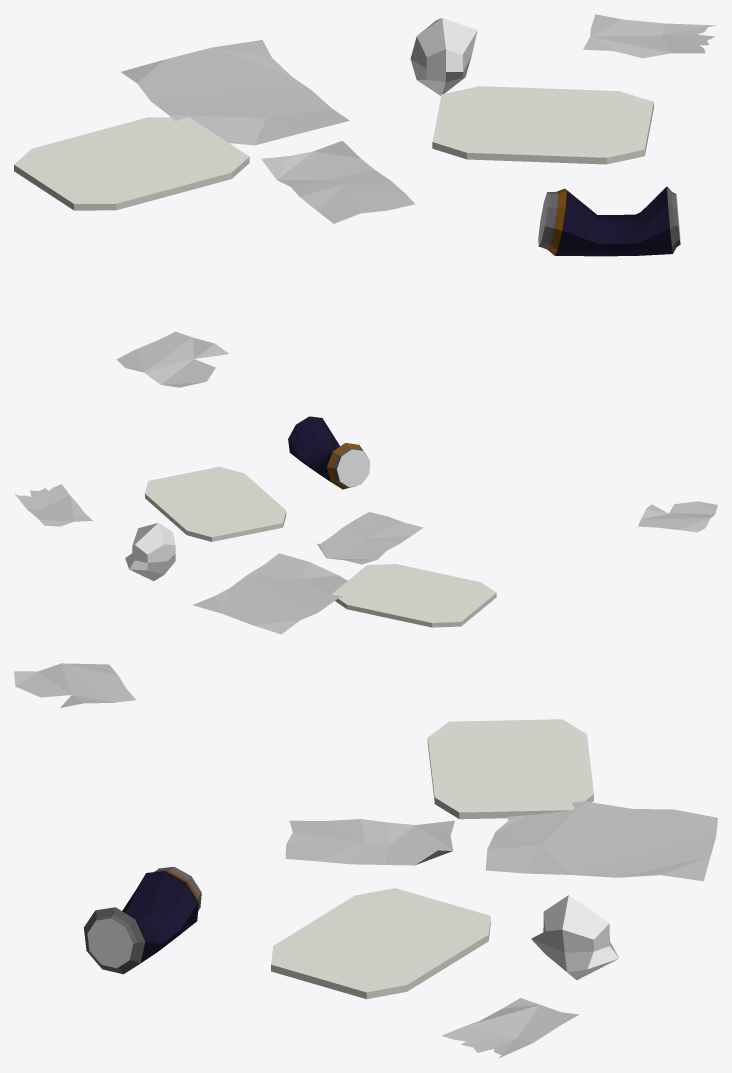
Rendered from WarehouseTrash4.glb.
3 views of the same model, one above another, from view 1: azimuth 30°, elevation 25°; view 2: azimuth 150°, elevation 25°; view 3: azimuth 270°, elevation 25° (orthographic). The views are drawn at different scales.
Parts seen in each view (by area): view 1: HexPaper.004, HexPaper.005, SM_Paper_04.005, Soda.006, SM_Paper_02.003, SM_Paper_01.003, SM_Paper_03.003, CrumpledPaper.003; view 2: HexPaper.004, HexPaper.005, SM_Paper_04.005, Soda.006, SM_Paper_02.003, CrumpledPaper.003, SM_Paper_01.003, SM_Paper_03.003; view 3: HexPaper.004, HexPaper.005, SM_Paper_04.005, Soda.006, SM_Paper_02.003, CrumpledPaper.003, SM_Paper_01.003, SM_Paper_03.003.
Part boxes in pixels (<box>): HexPaper.004: <box>432,86,653,164</box>; HexPaper.005: <box>14,117,249,210</box>; SM_Paper_04.005: <box>121,40,349,145</box>; Soda.006: <box>538,186,680,256</box>; SM_Paper_02.003: <box>261,140,414,223</box>; SM_Paper_01.003: <box>583,14,717,58</box>; SM_Paper_03.003: <box>117,331,229,387</box>; CrumpledPaper.003: <box>410,18,477,95</box>; HexPaper.004: <box>144,466,286,541</box>; HexPaper.005: <box>332,564,496,627</box>; SM_Paper_04.005: <box>192,553,347,634</box>; Soda.006: <box>288,416,370,489</box>; SM_Paper_02.003: <box>317,512,422,564</box>; CrumpledPaper.003: <box>125,523,175,581</box>; SM_Paper_01.003: <box>14,484,92,526</box>; SM_Paper_03.003: <box>638,501,717,532</box>; HexPaper.004: <box>271,888,490,999</box>; HexPaper.005: <box>427,719,593,819</box>; SM_Paper_04.005: <box>485,801,717,881</box>; Soda.006: <box>84,866,201,974</box>; SM_Paper_02.003: <box>285,819,454,865</box>; CrumpledPaper.003: <box>531,895,619,980</box>; SM_Paper_01.003: <box>441,998,579,1057</box>; SM_Paper_03.003: <box>14,663,135,707</box>.
Bounding box in the file's own units: 0.6197 × 0.0612 × 0.4643.
